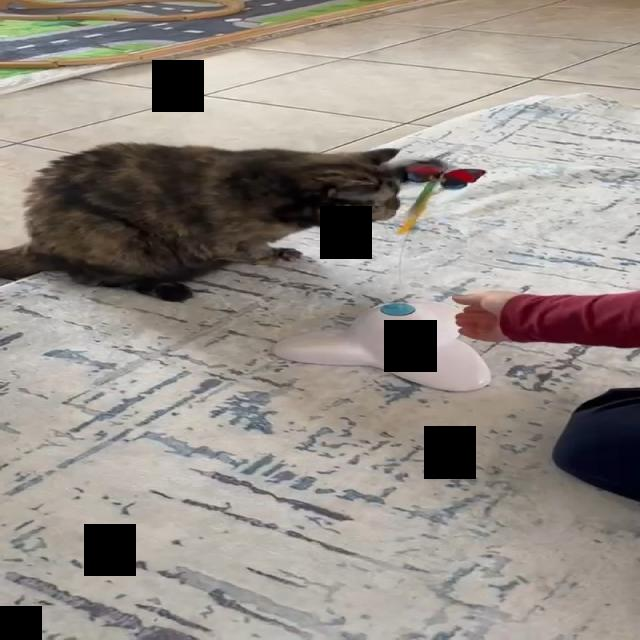authorized: (0, 140, 415, 303)
